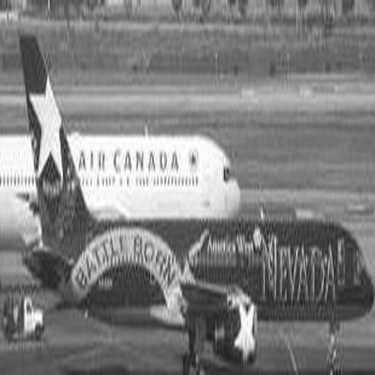airplane: (1, 66, 369, 358), (1, 98, 265, 226)
